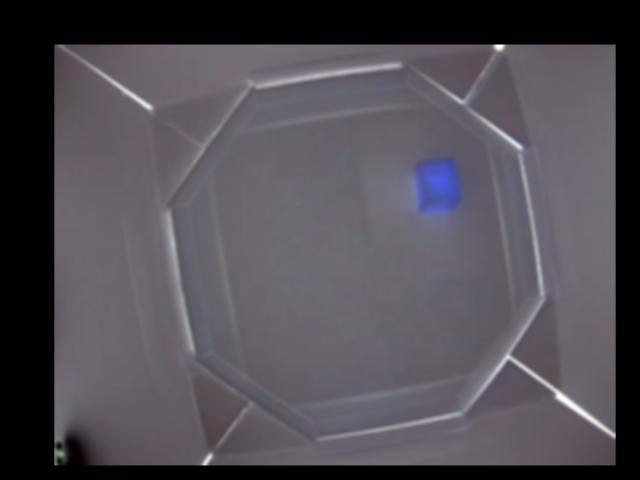Potato: (413, 162, 458, 214)
